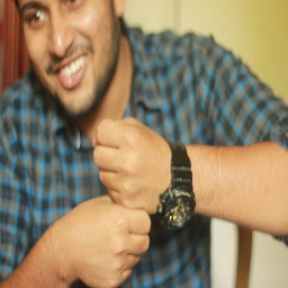G: (70, 114, 166, 286)
